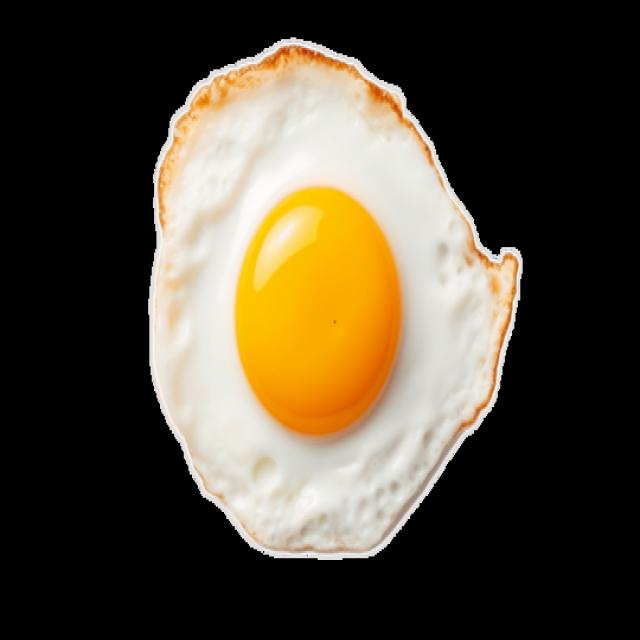Egg: (149, 41, 521, 558)
